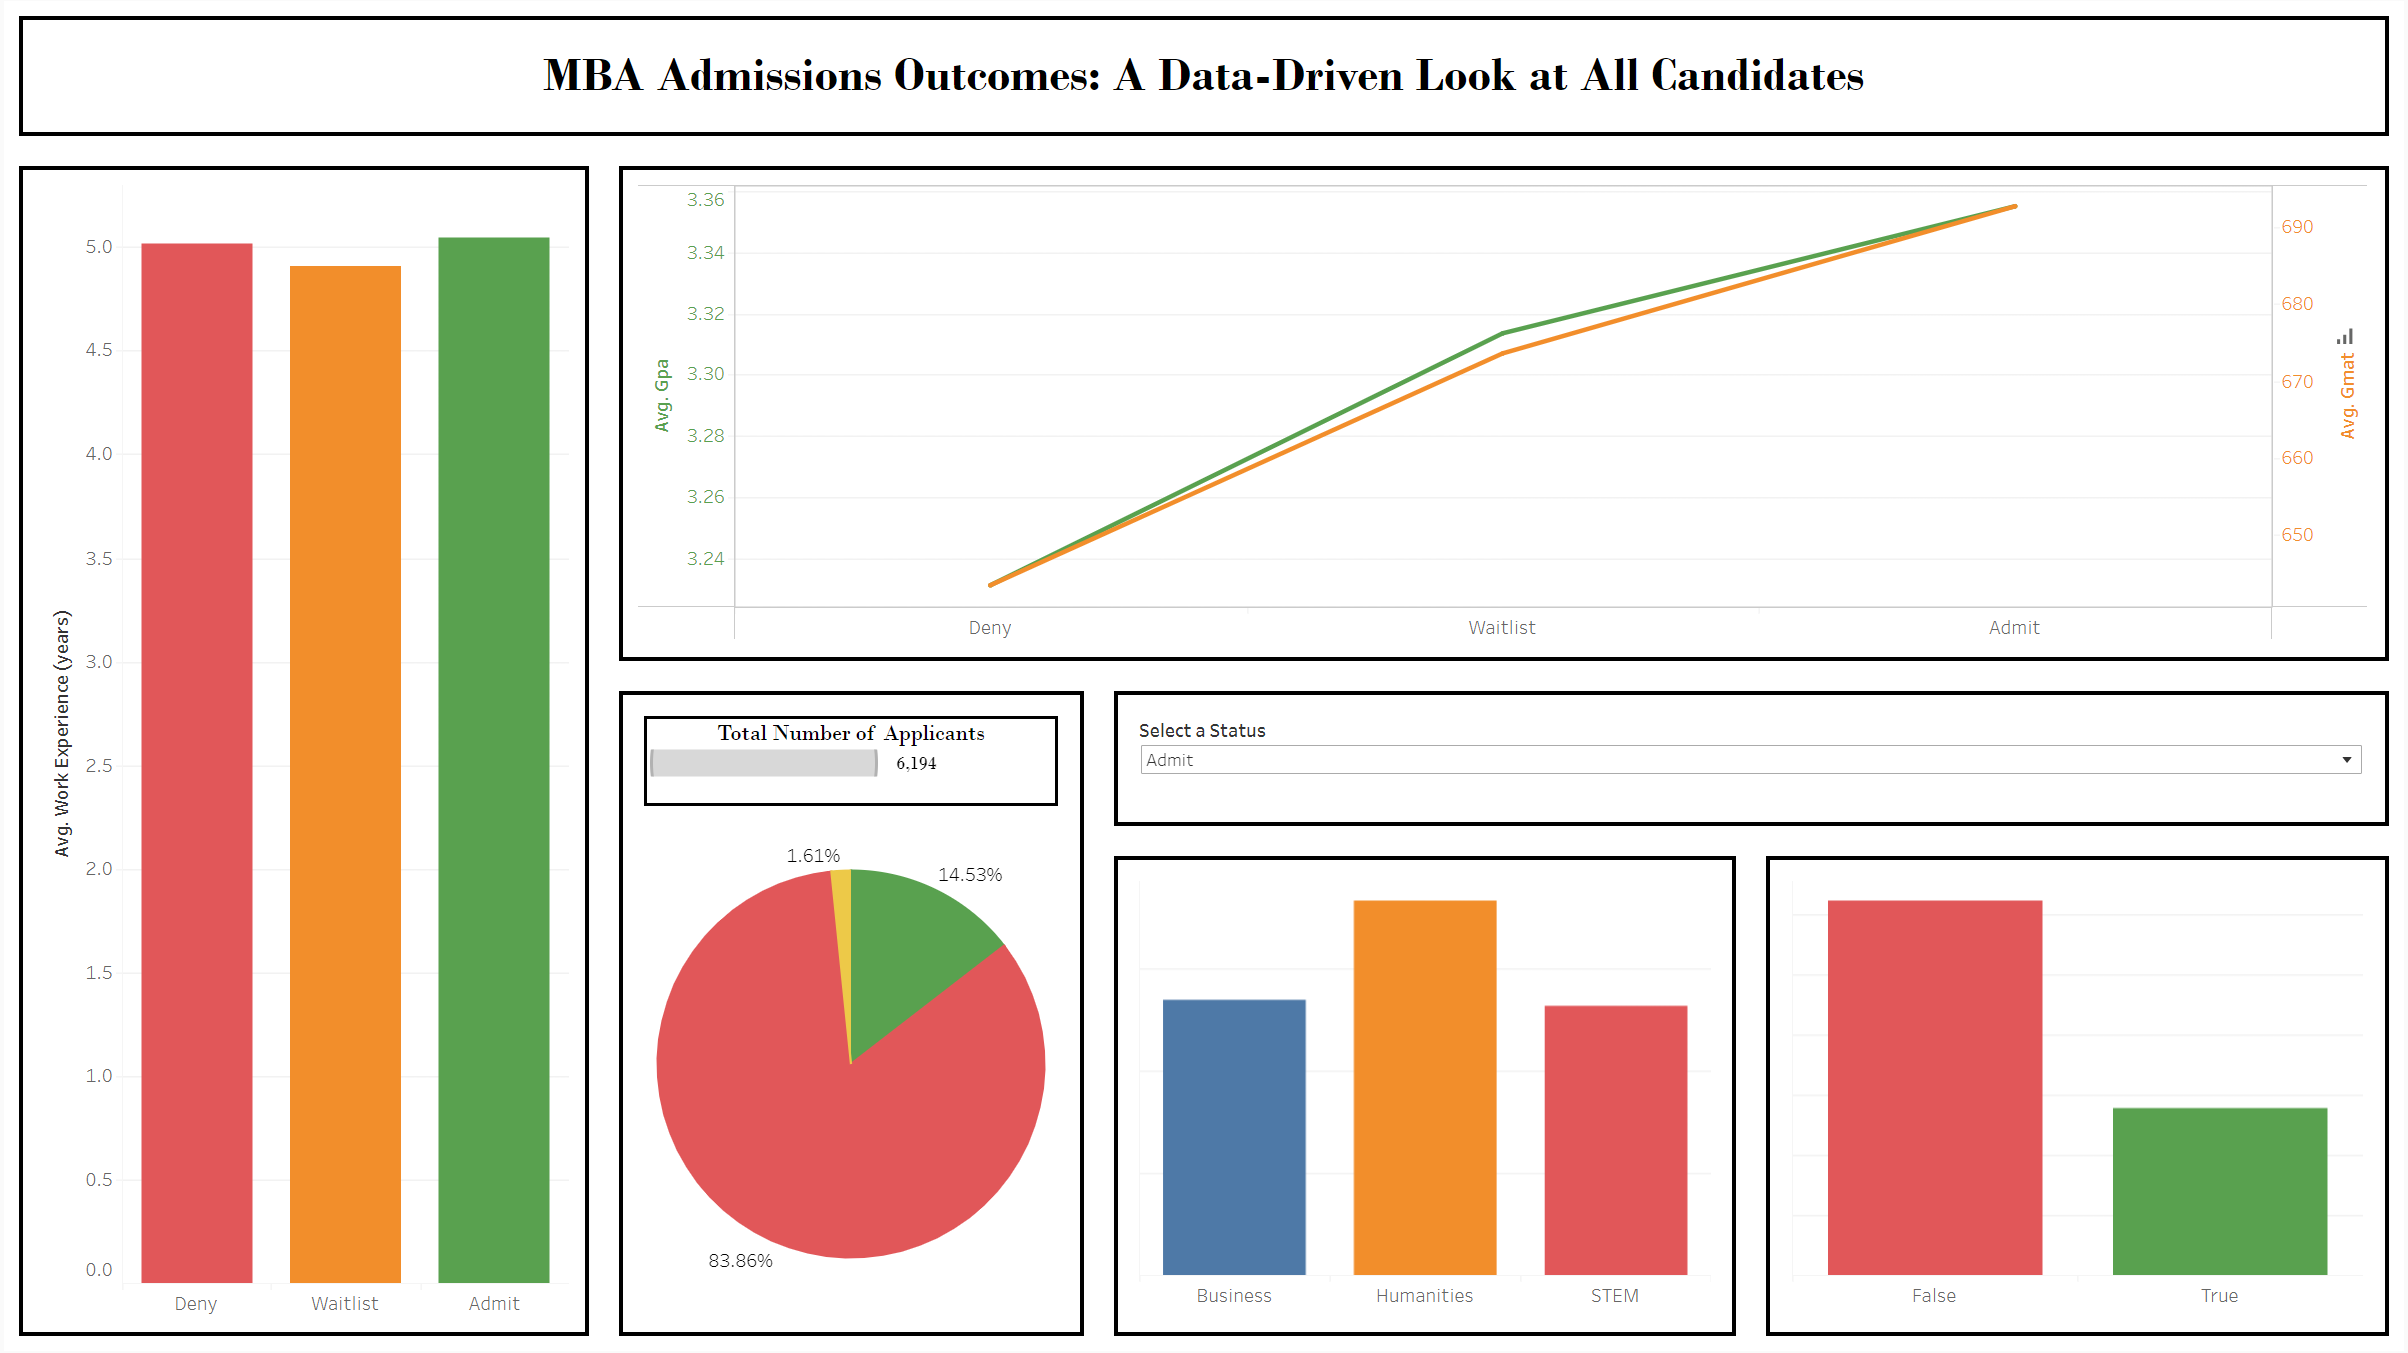

What the dashboard file says about the page in this screenshot:
{"tool":"tableau","page":{"name":"Dashboard 1","canvas":[1600,900],"ordinal":0},"visuals":[{"type":"text","box":[0,0,1600,100]},{"type":"worksheet","title":"Sheet 2","mark":"Automatic","rows":["work_exp"],"cols":["admission"],"box":[0,100,400,800]},{"type":"worksheet","title":"Sheet 1","mark":"Line","rows":["gpa","gmat"],"cols":["admission"],"box":[400,100,1200,350]},{"type":"legend","title":"Sheet 6","param":"[federated.0rprtyo08b5ybn17l0wye0lxml8j].[sum:count (ADMISSION):qk]","box":[423,473,284,68]},{"type":"parameter","param":"[Parameters].[Parameter 1]","box":[753,473,824,64]},{"type":"worksheet","title":"Sheet 6","mark":"Pie","box":[423,541,284,336]},{"type":"worksheet","title":"Sheet 3","mark":"Automatic","rows":["count (MAJOR)"],"cols":["major (admitted)"],"box":[753,583,389,292]},{"type":"worksheet","title":"Sheet 4","mark":"Automatic","rows":["count (admitted)"],"cols":["international (admitted)"],"box":[1188,583,389,292]},{"type":"worksheet","title":"Sheet 7","mark":"Automatic","rows":["count 1"],"cols":["major (waitlist)"],"box":[753,875,389,1]},{"type":"worksheet","title":"Sheet 10","mark":"Automatic","rows":["count (waitlist)"],"cols":["international (waitlist)"],"box":[1188,875,389,1]},{"type":"worksheet","title":"Sheet 8","mark":"Automatic","rows":["count 2"],"cols":["major (deny)"],"box":[753,876,389,1]},{"type":"worksheet","title":"Sheet 9","mark":"Automatic","rows":["count (deny)"],"cols":["international (deny)"],"box":[1188,876,389,1]}]}

Visuals, with their boxes in screenshot pixels (x1, y1, x2, y2), scaled from the page's 1600x900 canvas onto the 2408x1353 screenshot:
text: <bbox>0, 0, 2407, 150</bbox>
"Sheet 2" worksheet: <bbox>0, 150, 602, 1352</bbox>
"Sheet 1" worksheet (Line marks): <bbox>602, 150, 2407, 676</bbox>
"Sheet 6" legend: <bbox>637, 711, 1064, 813</bbox>
parameter: <bbox>1133, 711, 2373, 807</bbox>
"Sheet 6" worksheet (Pie marks): <bbox>637, 813, 1064, 1318</bbox>
"Sheet 3" worksheet: <bbox>1133, 876, 1719, 1315</bbox>
"Sheet 4" worksheet: <bbox>1788, 876, 2373, 1315</bbox>
"Sheet 7" worksheet: <bbox>1133, 1315, 1719, 1317</bbox>
"Sheet 10" worksheet: <bbox>1788, 1315, 2373, 1317</bbox>
"Sheet 8" worksheet: <bbox>1133, 1317, 1719, 1318</bbox>
"Sheet 9" worksheet: <bbox>1788, 1317, 2373, 1318</bbox>
